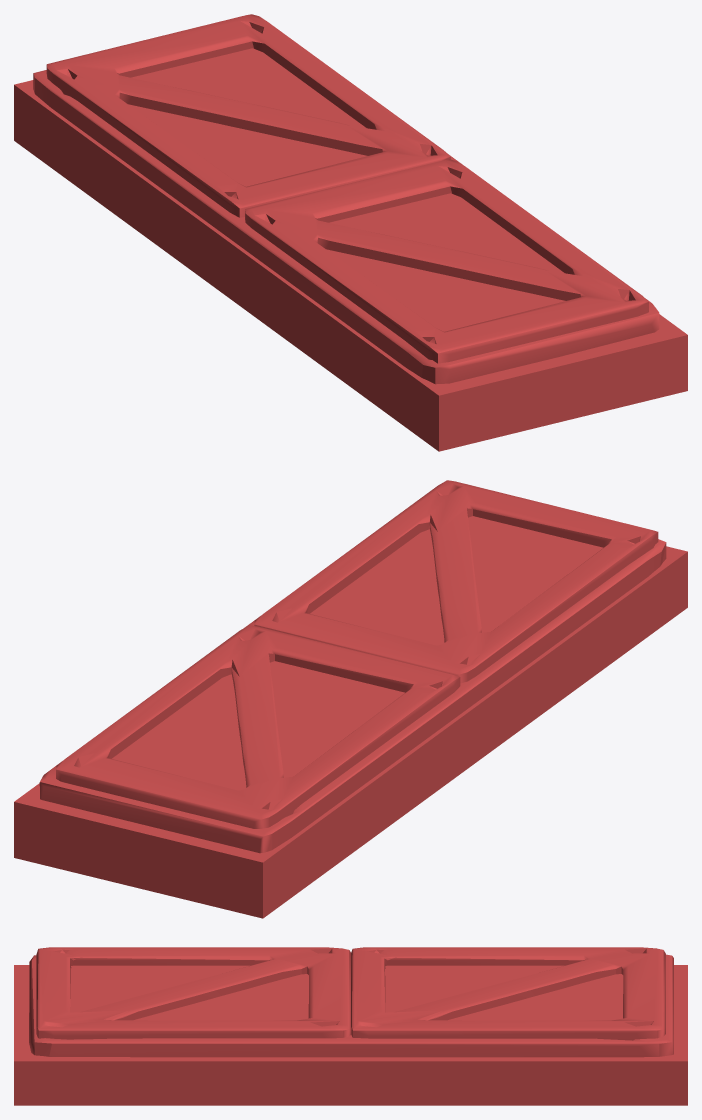
File: Final_ComplexWall_3x1_03.FBX
The picture shows the model from 3 angles, top to bottom: view 1: azimuth 30°, elevation 25°; view 2: azimuth 150°, elevation 25°; view 3: azimuth 270°, elevation 25°; orthographic projection. The views are drawn at different scales.
Parts seen in each view (by area): view 1: Final_ComplexWall_3x1_03; view 2: Final_ComplexWall_3x1_03; view 3: Final_ComplexWall_3x1_03.
Part boxes in pixels (x1,y1,x2,y2): Final_ComplexWall_3x1_03: (14, 14, 687, 451); Final_ComplexWall_3x1_03: (14, 480, 687, 918); Final_ComplexWall_3x1_03: (14, 947, 687, 1105).
Bounding box in the file's own units: 102 × 300 × 33.23.
